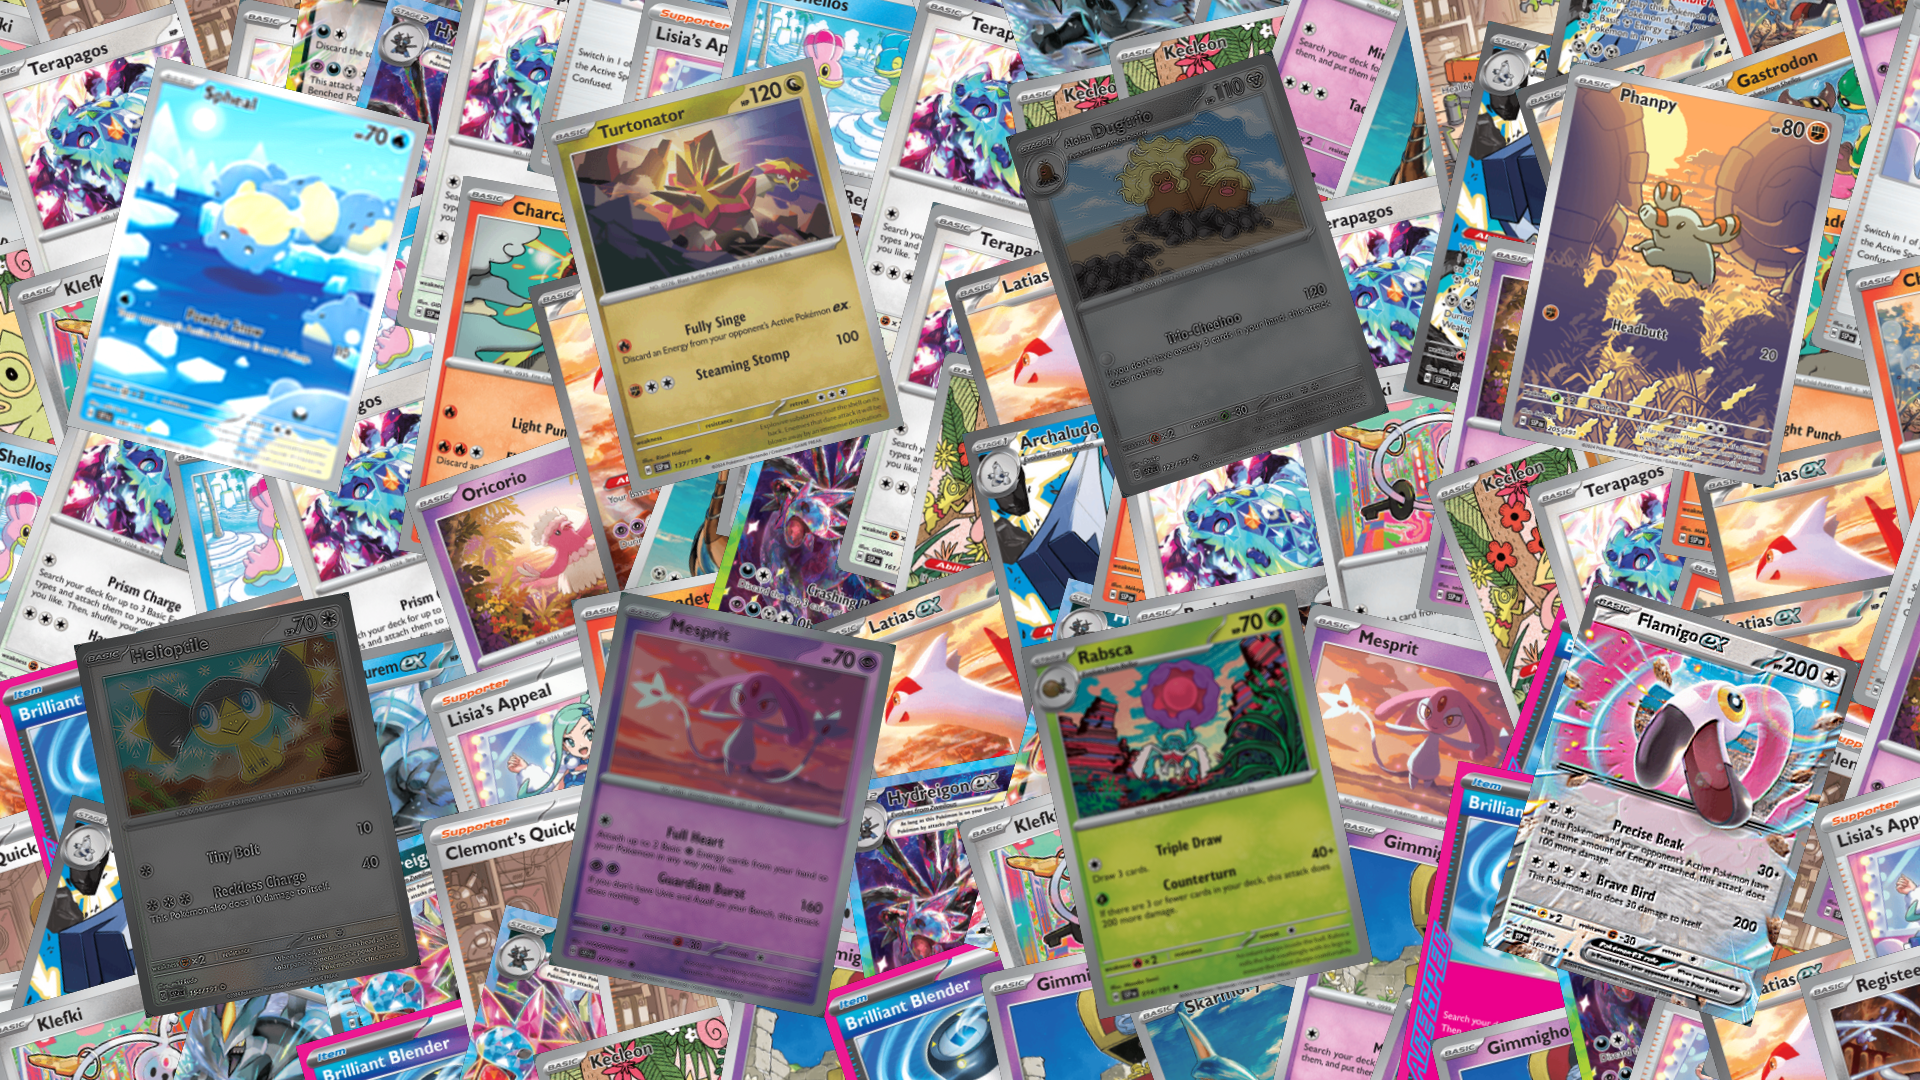Alolan_Dugtrio: (1005, 50, 1389, 498)
Flamigo_ex: (1482, 582, 1861, 1027)
Helioptile: (73, 591, 421, 1018)
Mesprit: (549, 591, 895, 1018)
Phanpy: (1498, 61, 1846, 488)
Rabsca: (1021, 589, 1373, 1019)
Spheal: (65, 55, 429, 493)
Turtonator: (541, 55, 905, 493)
